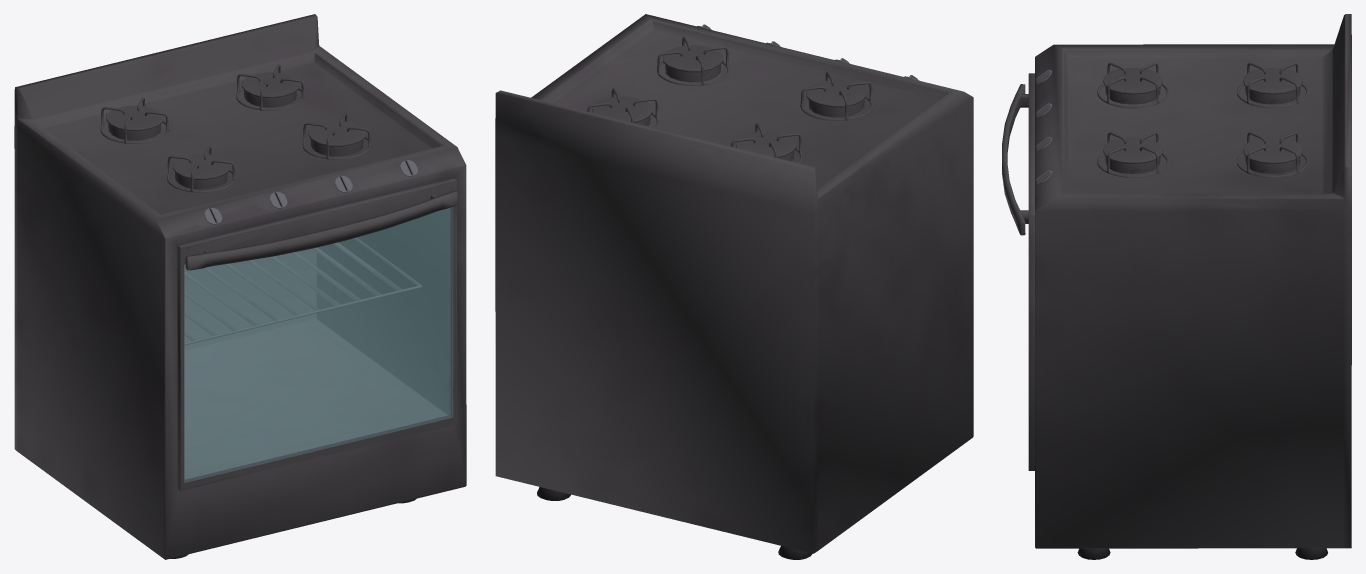
File: Fogao.fbx
3 renders of one model, left to right at view 1: azimuth 30°, elevation 25°; view 2: azimuth 150°, elevation 25°; view 3: azimuth 270°, elevation 25°, orthographic. The views are drawn at different scales.
Parts seen in each view (by area): view 1: Fogao; view 2: Fogao; view 3: Fogao.
Part boxes in pixels (x1=…): Fogao: x1=14, y1=14, x2=466, y2=559; Fogao: x1=495, y1=14, x2=973, y2=559; Fogao: x1=1002, y1=14, x2=1351, y2=559.
Bounding box in the file's own units: 82.24 × 100 × 78.55.
